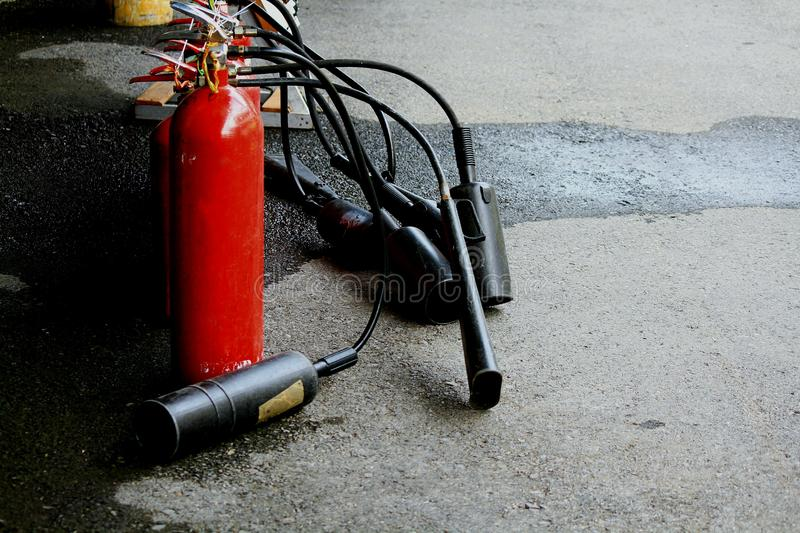fire_extinguisher: (129, 1, 301, 386), (129, 1, 268, 386)
